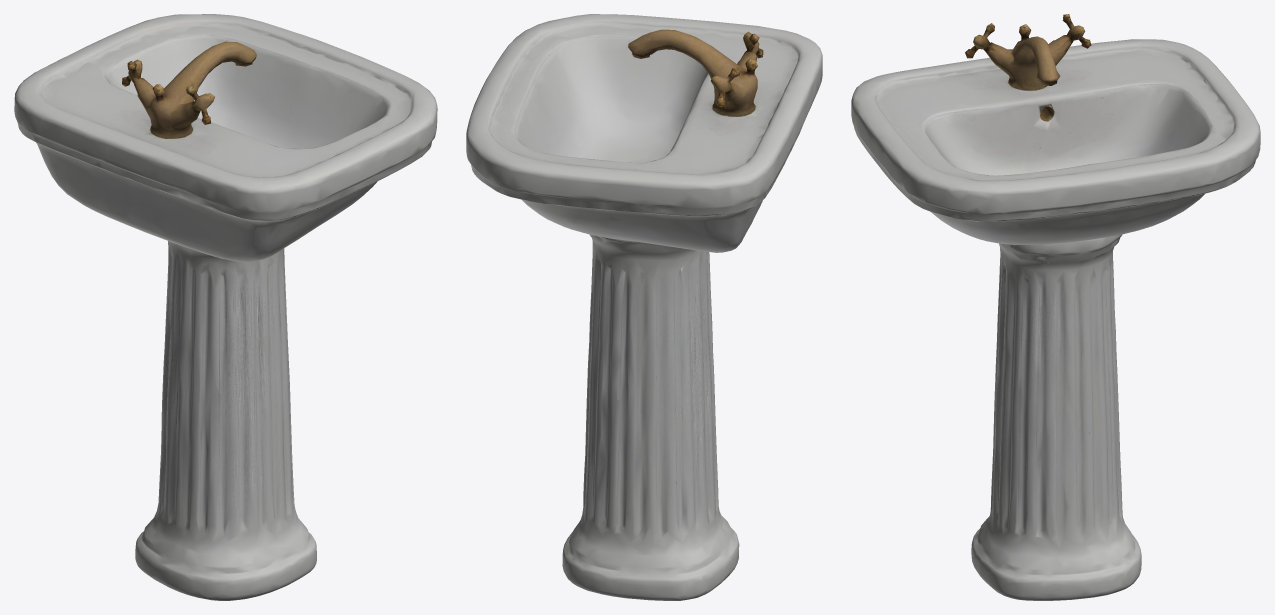
Rendered from b_basin.glb.
The picture shows the model from 3 angles, left to right: view 1: azimuth 30°, elevation 25°; view 2: azimuth 150°, elevation 25°; view 3: azimuth 270°, elevation 25°; orthographic projection. The views are drawn at different scales.
Parts seen in each view (by area): view 1: tripo_node_dd678cd6-3402-43d9-8f98-f398906435d6; view 2: tripo_node_dd678cd6-3402-43d9-8f98-f398906435d6; view 3: tripo_node_dd678cd6-3402-43d9-8f98-f398906435d6.
Boxes of the visible parts, x1=… form: tripo_node_dd678cd6-3402-43d9-8f98-f398906435d6: x1=14, y1=14, x2=437, y2=600; tripo_node_dd678cd6-3402-43d9-8f98-f398906435d6: x1=466, y1=14, x2=822, y2=600; tripo_node_dd678cd6-3402-43d9-8f98-f398906435d6: x1=851, y1=14, x2=1260, y2=600.
Bounding box in the file's own units: 0.6371 × 1 × 0.7128.
1 material, 1 textured.
